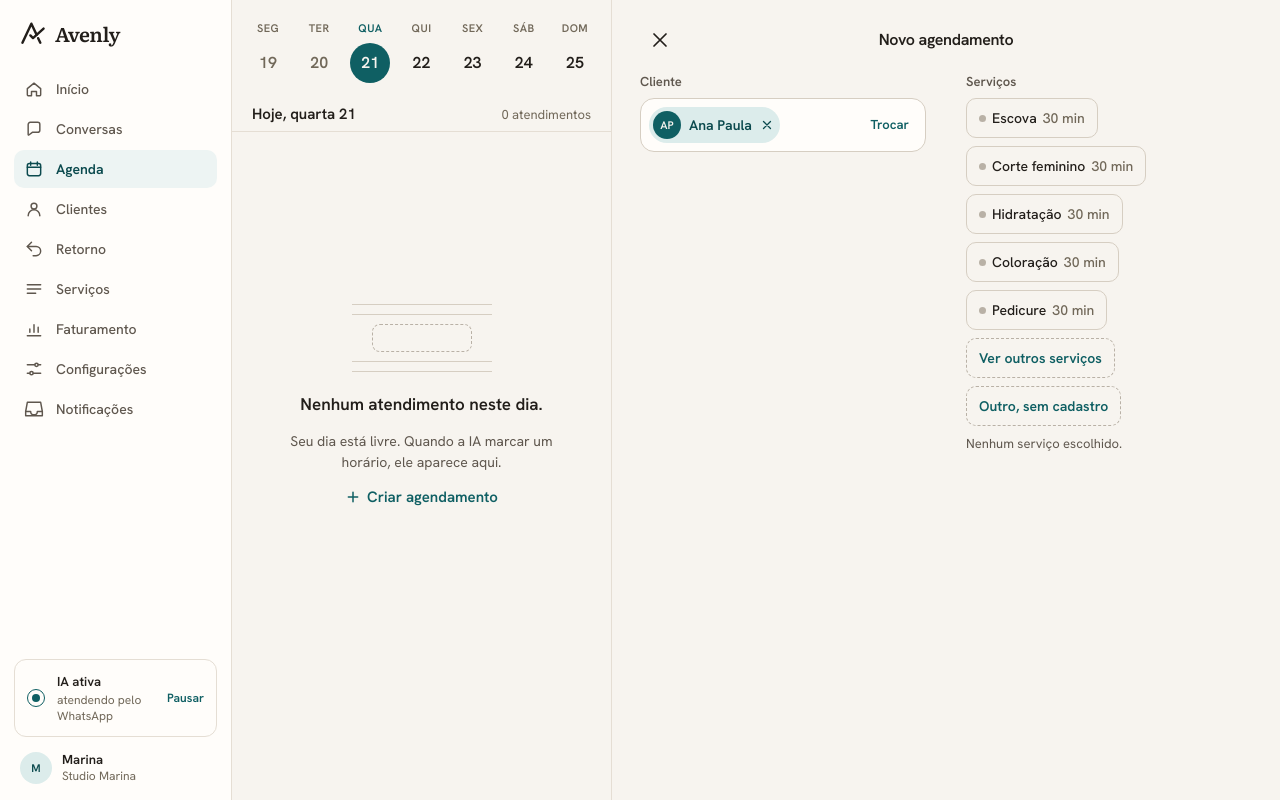
Scenario: 3. Ver outros serviços › com muitos serviços, a busca por nome filtra a lista
Expected: the form named "Novo agendamento" is shown, [640,73,1146,452]
Expected: the checkbox labelled "Escova 30 min" is shown, [966,98,1098,138]
Click the button "Ver outros serviços" at (1040, 358), box [966,338,1115,378]
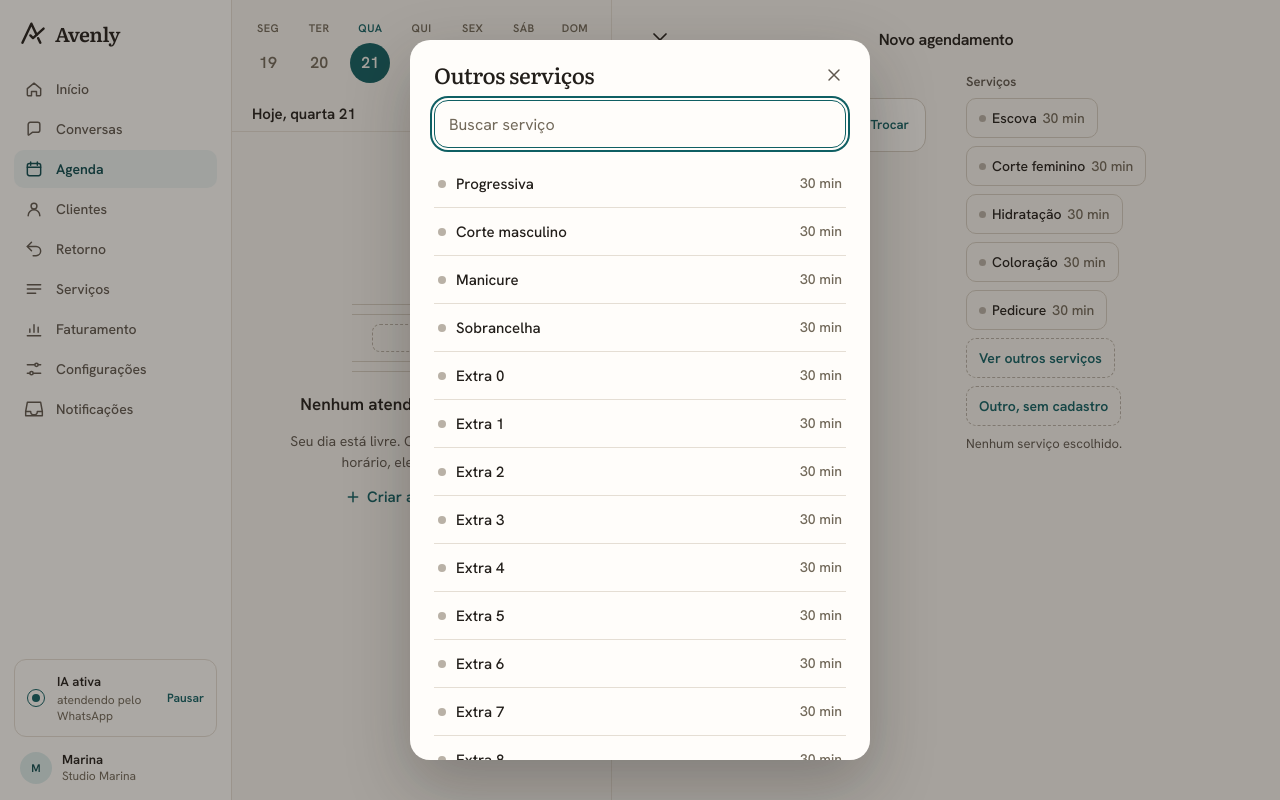
Type "sobrancel" into the search field labelled "Buscar serviço" at (640, 124), box [434,100,846,148]
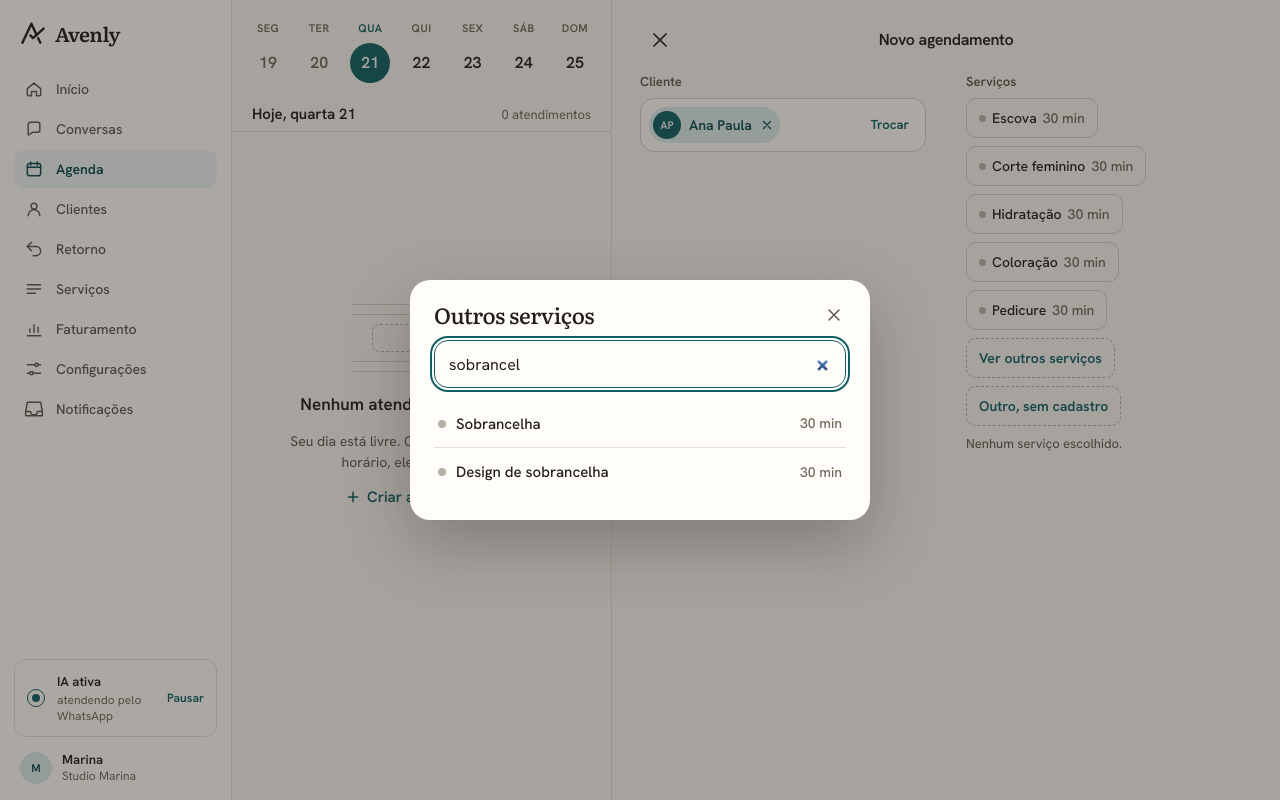
Clear the search field named "Buscar serviço" at (640, 364), box [434,340,846,388]
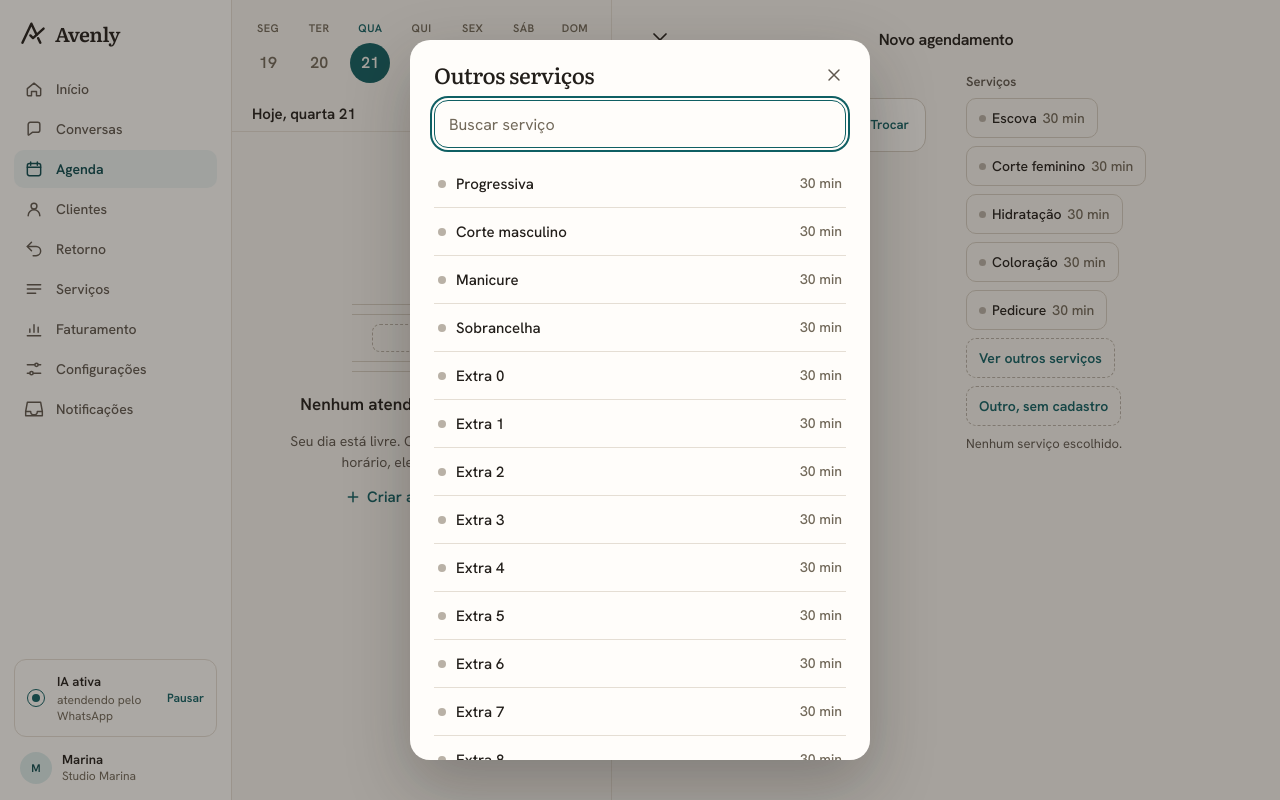
Type "xyz" into the search field labelled "Buscar serviço" at (640, 124), box [434,100,846,148]
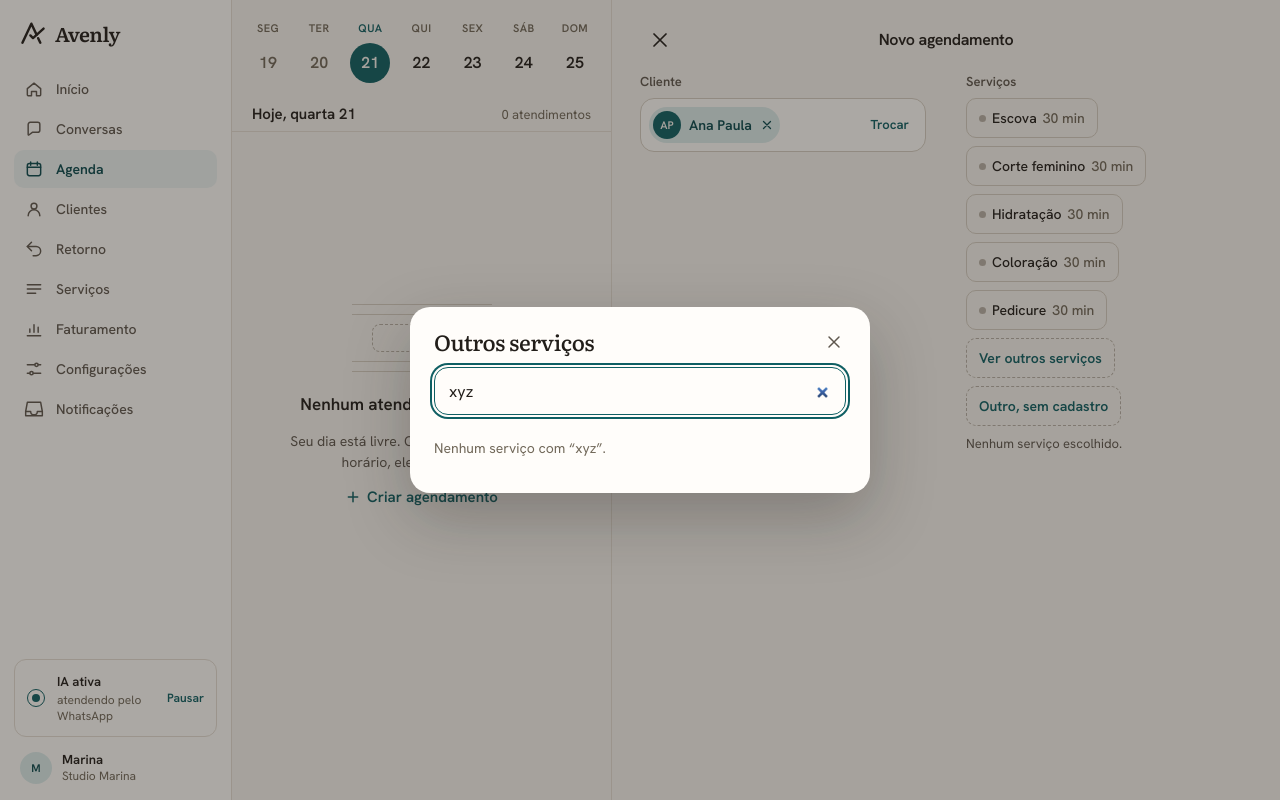
Expected: the message reads "Nenhum serviço com “xyz”.", [434,439,606,457]
